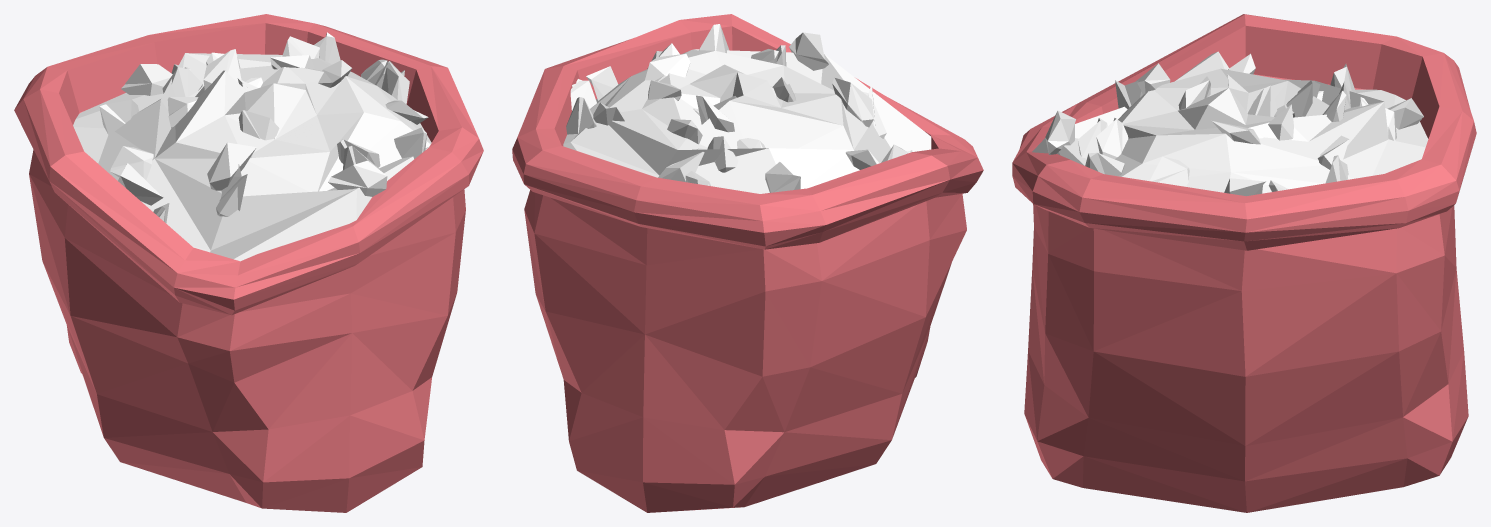
Rendered from SFFA_Coal_Bag_002.fbx.
The picture shows the model from 3 angles, left to right: view 1: azimuth 30°, elevation 25°; view 2: azimuth 150°, elevation 25°; view 3: azimuth 270°, elevation 25°; orthographic projection. The views are drawn at different scales.
Parts seen in each view (by area): view 1: SFFA_Coal_Bag_002; view 2: SFFA_Coal_Bag_002; view 3: SFFA_Coal_Bag_002.
Boxes of the visible parts, x1,y1,x2,y2 form: SFFA_Coal_Bag_002: [14, 14, 483, 512]; SFFA_Coal_Bag_002: [512, 14, 983, 512]; SFFA_Coal_Bag_002: [1012, 14, 1476, 512].
Size of the model in its own units: 45.58 by 40.81 by 43.09.
